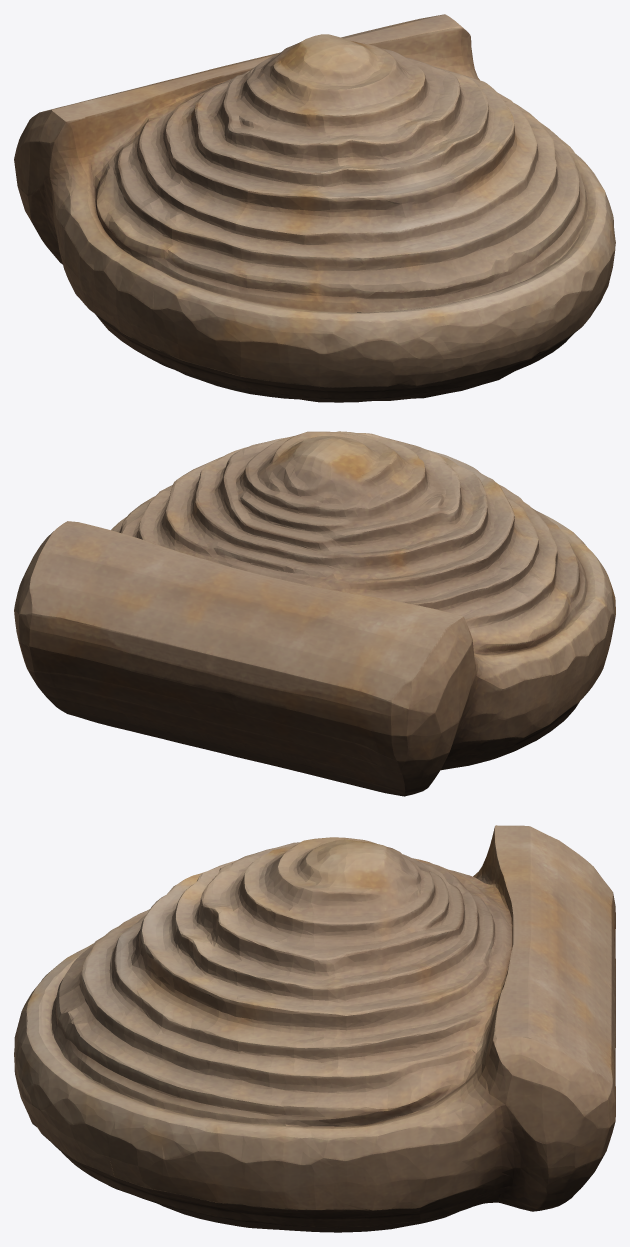
3 views of the same model, one above another, from view 1: azimuth 30°, elevation 25°; view 2: azimuth 150°, elevation 25°; view 3: azimuth 270°, elevation 25° (orthographic). The views are drawn at different scales.
Parts seen in each view (by area): view 1: world; view 2: world; view 3: world.
Part boxes in pixels (x1,y1,x2,y2): world: (14, 14, 615, 402); world: (14, 431, 615, 796); world: (14, 825, 615, 1232).
Bounding box in the file's own units: 0.045 × 0.0263 × 0.045.
1 material, 1 textured.
